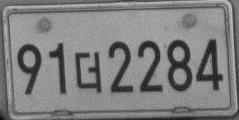1: (44, 41, 71, 95)
2: (106, 39, 135, 94), (136, 39, 164, 93)
4: (194, 37, 224, 92)
8: (165, 38, 194, 92)
9: (16, 43, 43, 95)
더: (74, 51, 102, 95)
